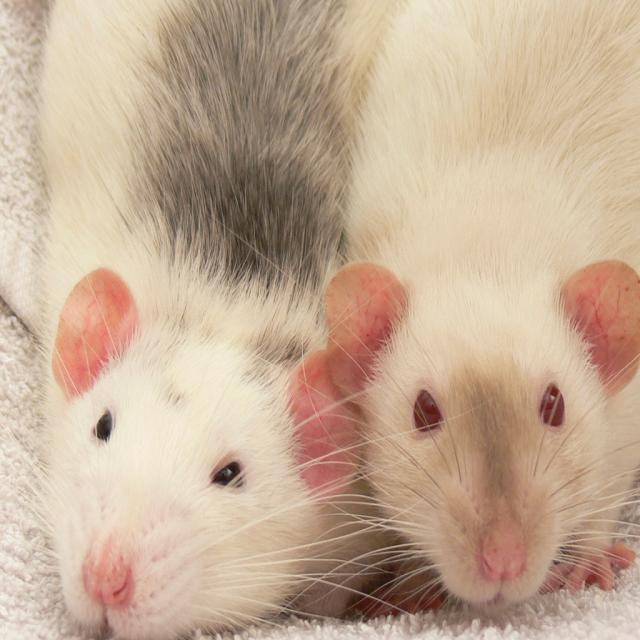rat: (213, 0, 639, 612), (18, 0, 403, 639)
